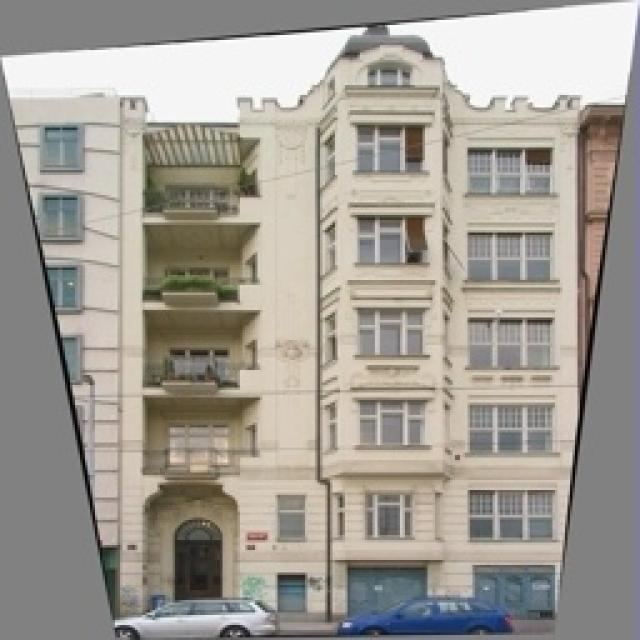building: (0, 40, 600, 640)
